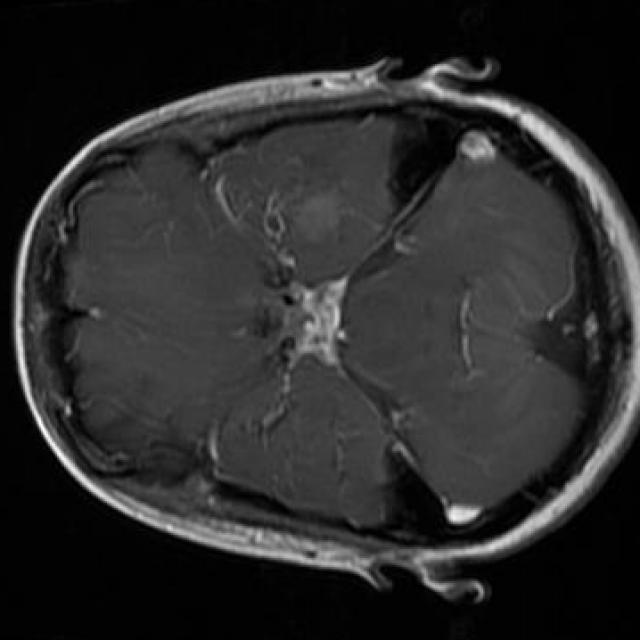glioma: (262, 182, 355, 253)
